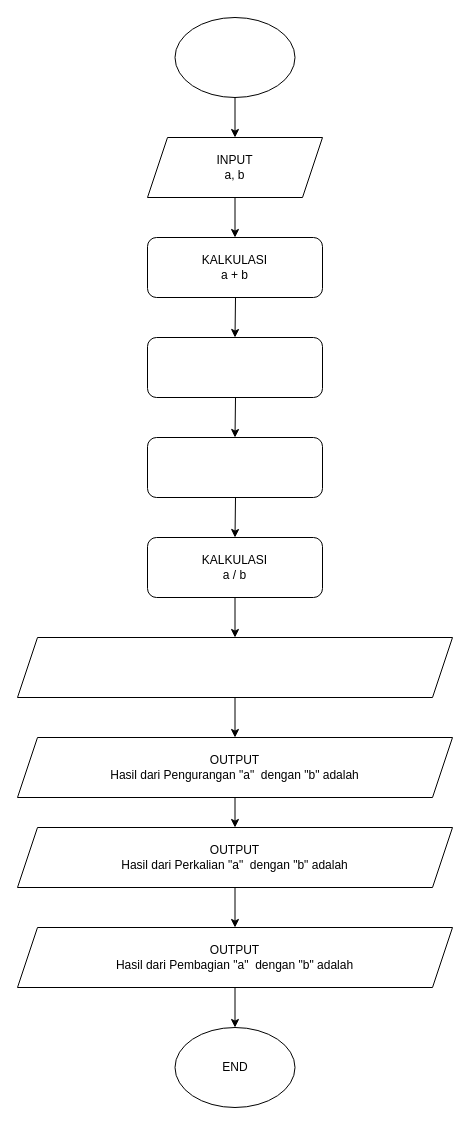
The diagram is 470 pixels wide and 1125 high, and some of its shapes have lost their labels. The shapes that lost their labels are listed below. From the top down, each one's box as (x1, y1, x2, y2) in pixels, then its label:
(174, 16, 295, 98): START
(146, 336, 322, 398): KALKULASI a - b
(146, 436, 322, 498): KALKULASI a * b
(16, 636, 452, 698): OUTPUT Hasil dari Penjumlahan "a" dengan "b" adalah
